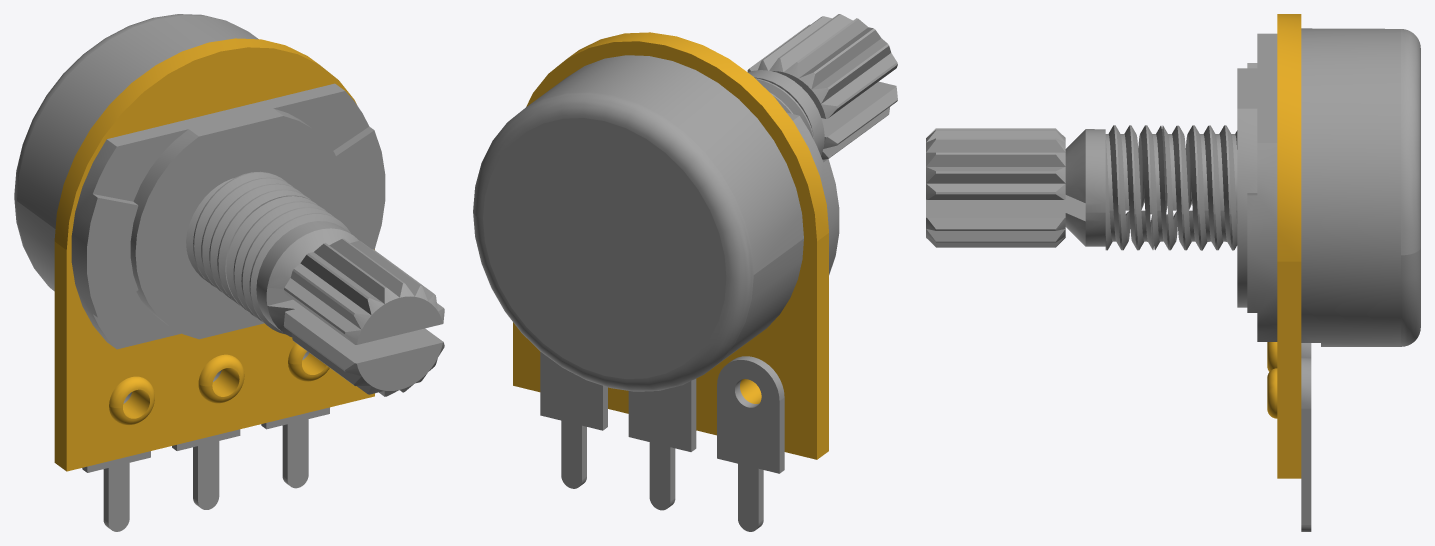
File: pot.glb
3 views of the same model, side by side, from view 1: azimuth 30°, elevation 25°; view 2: azimuth 150°, elevation 25°; view 3: azimuth 270°, elevation 25° (orthographic).
Visible parts, largest first — view 1: pot-1, pot-0, pot-2, pot-3, pot-5, pot-6, pot-4; view 2: pot-3, pot-0, pot-2, pot-6, pot-5, pot-4, pot-1; view 3: pot-3, pot-1, pot-2, pot-0, pot-4.
Part boxes in pixels (x1,y1,x2,y2): pot-1: (71, 83, 385, 349); pot-0: (54, 38, 374, 471); pot-2: (256, 221, 444, 396); pot-3: (14, 14, 258, 291); pot-5: (172, 370, 240, 509); pot-6: (82, 392, 150, 531); pot-4: (261, 351, 329, 488); pot-3: (473, 55, 803, 391); pot-0: (513, 32, 828, 459); pot-2: (747, 14, 897, 159); pot-6: (717, 356, 784, 531); pot-5: (628, 379, 696, 510); pot-4: (540, 352, 607, 488); pot-1: (755, 78, 839, 274); pot-3: (1301, 28, 1420, 346); pot-1: (1105, 33, 1277, 341); pot-2: (926, 128, 1105, 247); pot-0: (1267, 14, 1301, 478); pot-4: (1301, 357, 1311, 531).
Bounding box in the file's own units: 17.5 × 25.35 × 24.8.
